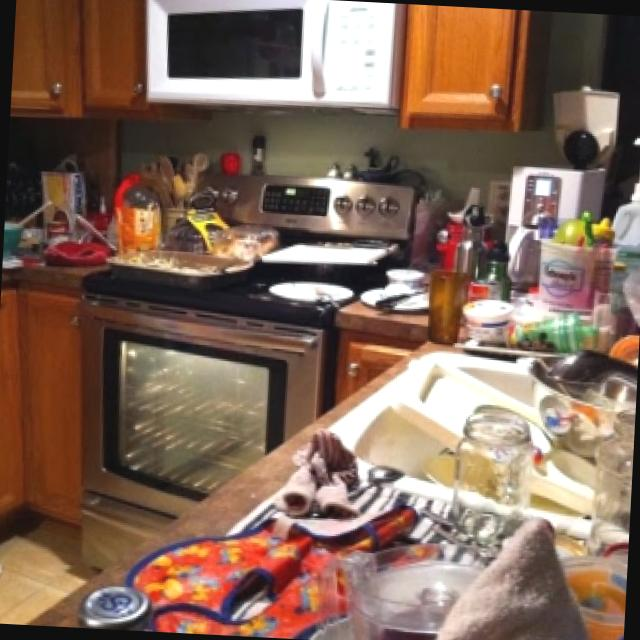mess: (0, 157, 640, 640)
